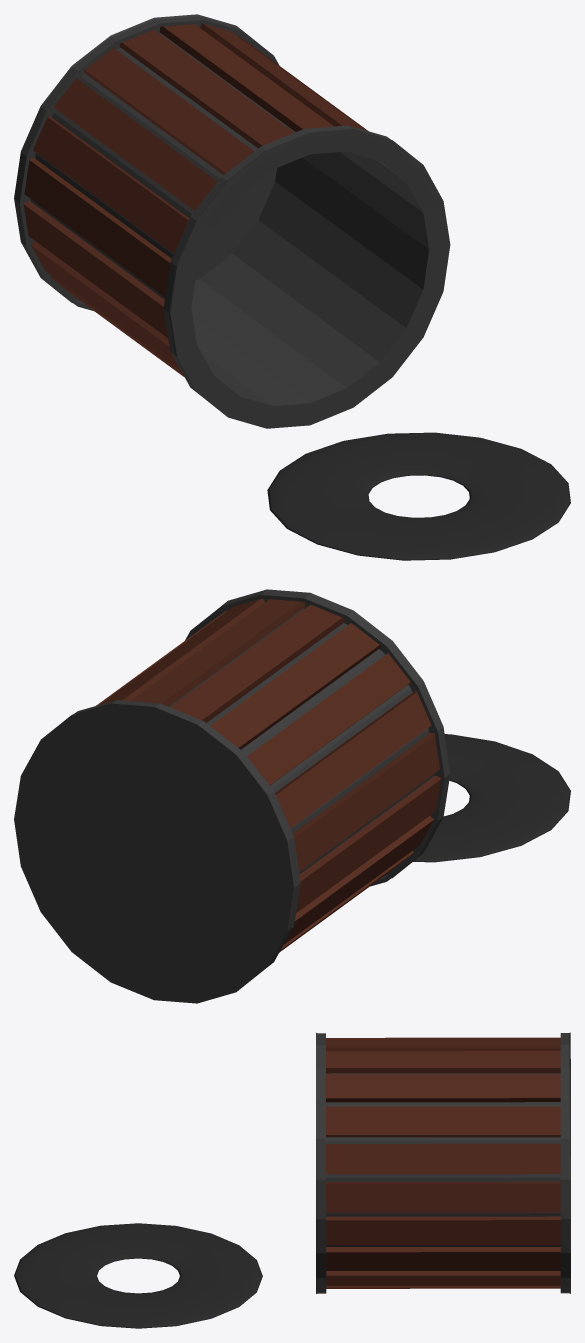
Rendered from Fallen_Trash_Can.fbx.
3 views of the same model, one above another, from view 1: azimuth 30°, elevation 25°; view 2: azimuth 150°, elevation 25°; view 3: azimuth 270°, elevation 25° (orthographic). The views are drawn at different scales.
Visible parts, largest first — view 1: Trash_Can, Lid, Slat9, Slat7, Slat8, Slat10, Slat6, Slat11, Slat5, Slat12, Slat4; view 2: Trash_Can, Lid, Slat9, Slat7, Slat8, Slat10, Slat6, Slat11, Slat5, Slat12, Slat4, Slat13; view 3: Lid, Trash_Can, Slat3, Slat2, Slat1, Slat, Slat4, Slat19, Slat5, Slat18, Slat6, Slat17 (+1 smaller).
Part boxes in pixels (x1,y1,x2,y2): Trash_Can: [14, 14, 450, 428]; Lid: [267, 432, 570, 560]; Slat9: [33, 116, 189, 253]; Slat7: [83, 48, 254, 174]; Slat8: [53, 78, 217, 210]; Slat10: [24, 158, 171, 297]; Slat6: [119, 29, 293, 148]; Slat11: [23, 200, 168, 338]; Slat5: [159, 24, 333, 131]; Slat12: [30, 241, 179, 369]; Slat4: [200, 23, 364, 130]; Trash_Can: [14, 589, 450, 1003]; Lid: [413, 734, 570, 862]; Slat9: [275, 691, 431, 828]; Slat7: [210, 623, 380, 749]; Slat8: [247, 653, 410, 785]; Slat10: [292, 733, 439, 871]; Slat6: [170, 605, 345, 722]; Slat11: [296, 775, 440, 912]; Slat5: [131, 599, 305, 706]; Slat12: [284, 816, 434, 944]; Slat4: [99, 598, 264, 704]; Slat13: [279, 851, 413, 952]; Lid: [14, 1223, 262, 1328]; Trash_Can: [316, 1032, 570, 1293]; Slat3: [326, 1106, 560, 1137]; Slat2: [326, 1143, 560, 1174]; Slat1: [326, 1181, 560, 1212]; Slat: [326, 1216, 560, 1245]; Slat4: [326, 1074, 560, 1102]; Slat19: [326, 1247, 560, 1270]; Slat5: [326, 1051, 560, 1073]; Slat18: [326, 1271, 560, 1285]; Slat6: [326, 1039, 560, 1051]; Slat17: [326, 1285, 560, 1288].
Size of the model in its own units: 2.35 by 2.34 by 4.95.
